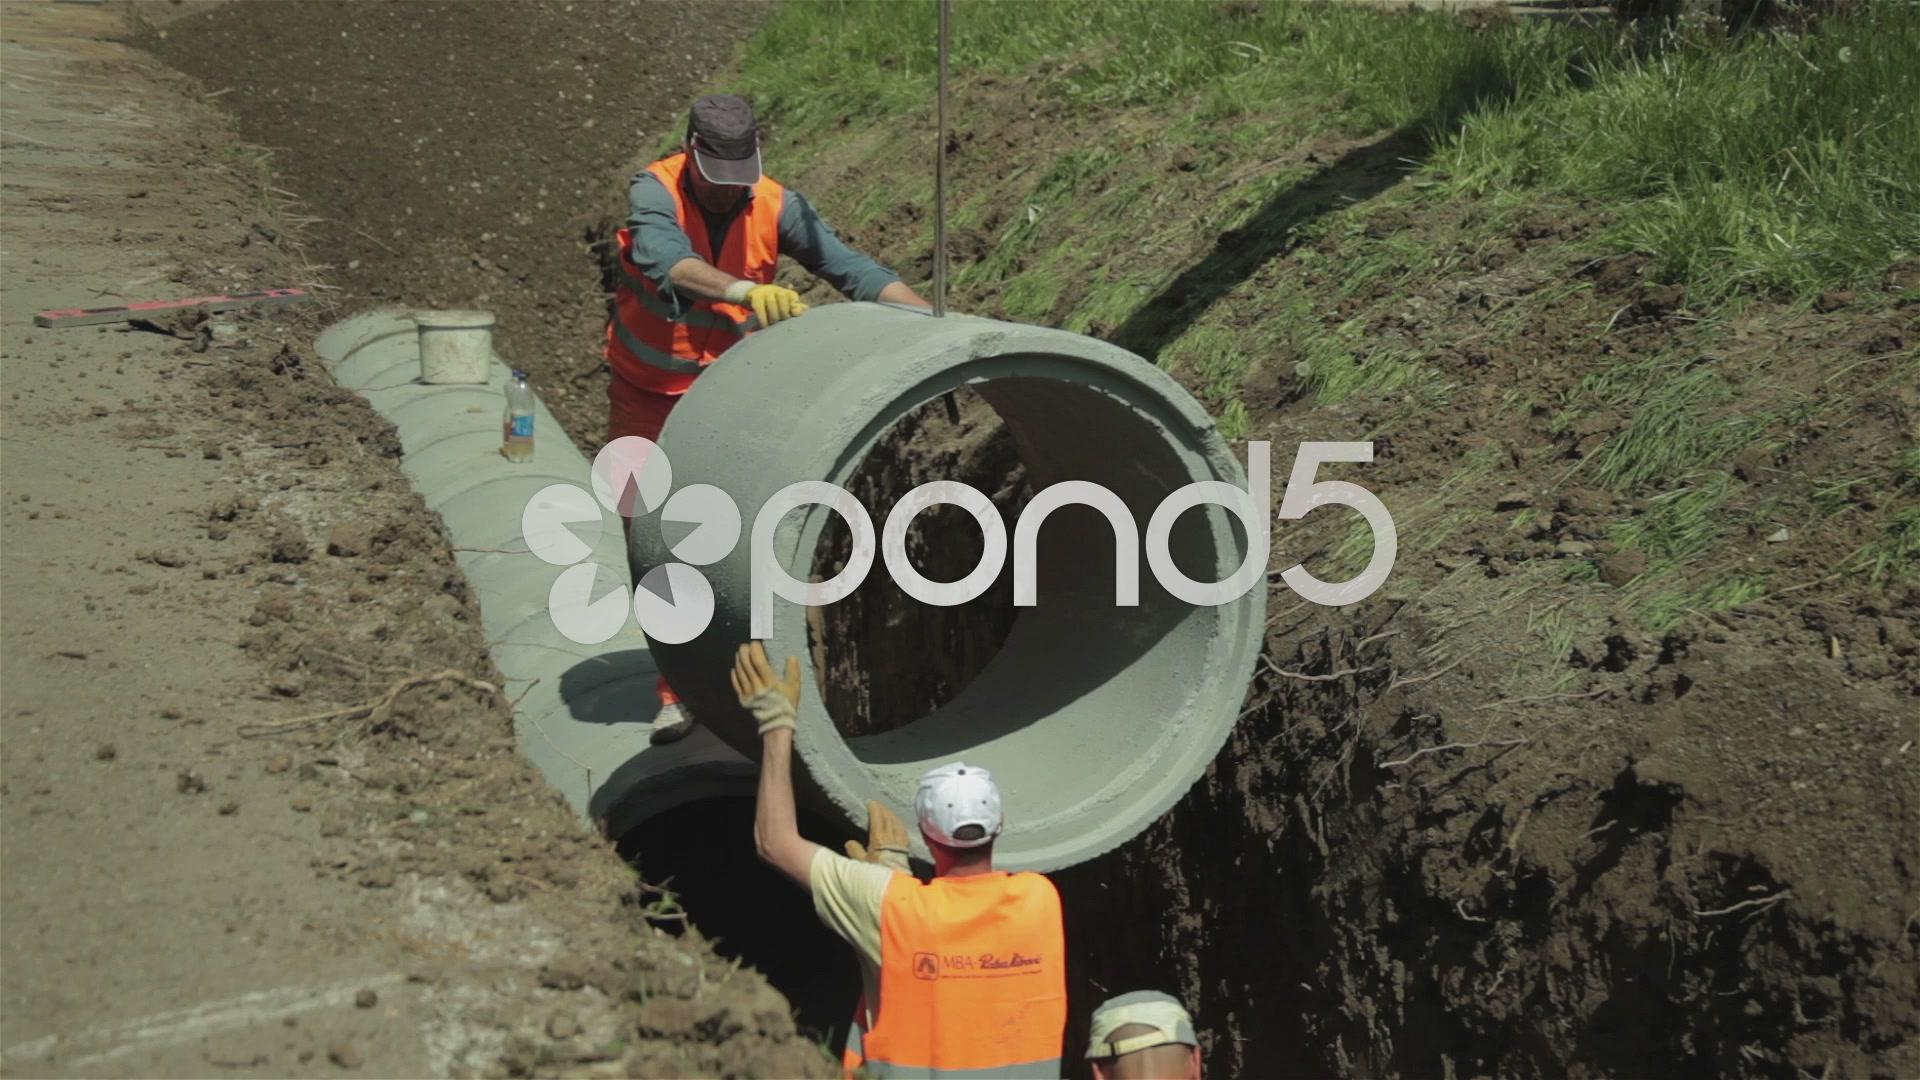no hat: (618, 69, 824, 218), (1051, 934, 1244, 1080), (881, 741, 1064, 887)
vest: (545, 154, 844, 429), (837, 844, 1114, 1080)
